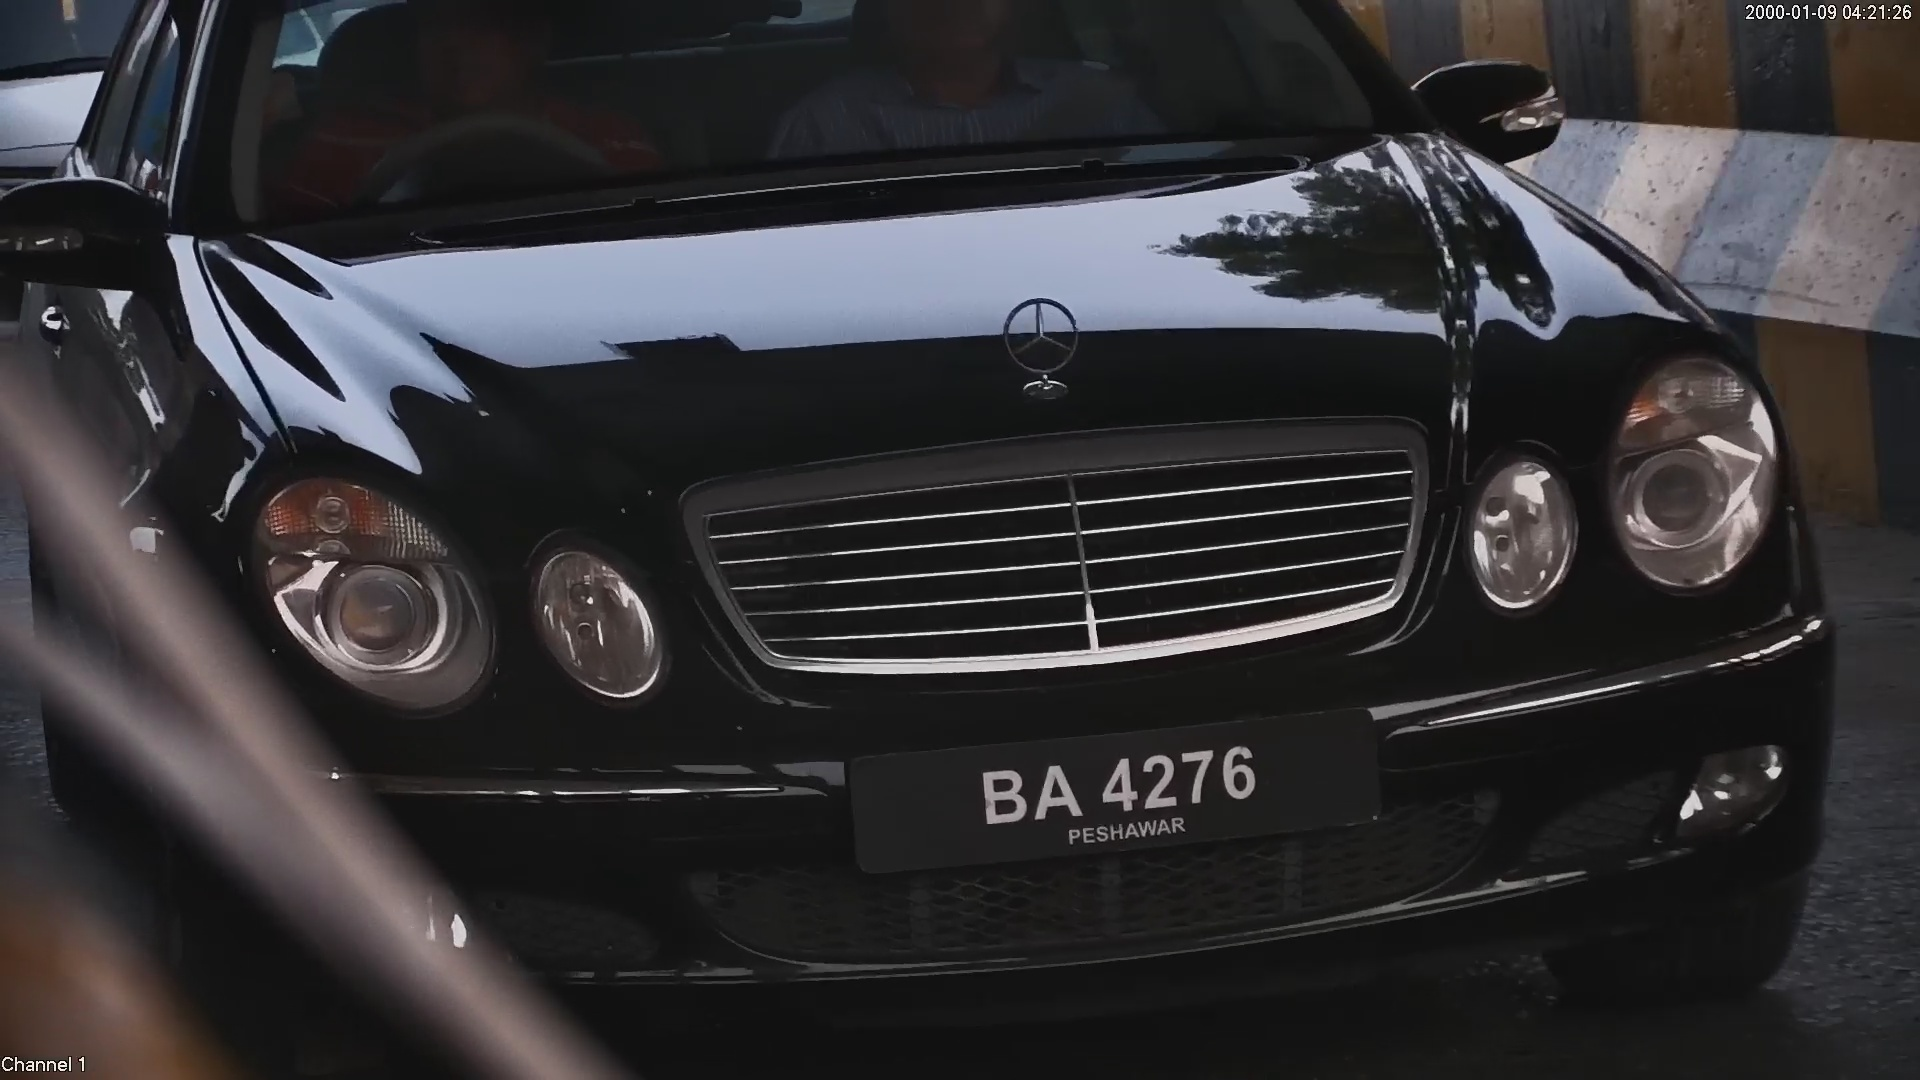Number_Plate: (826, 705, 1406, 866)
Undefined: (234, 459, 652, 707), (1456, 351, 1776, 594)
